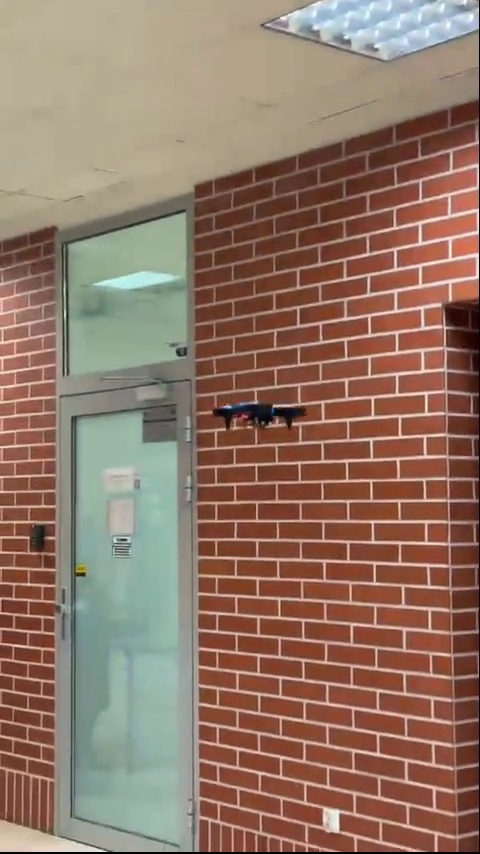drone: (213, 396, 310, 434)
